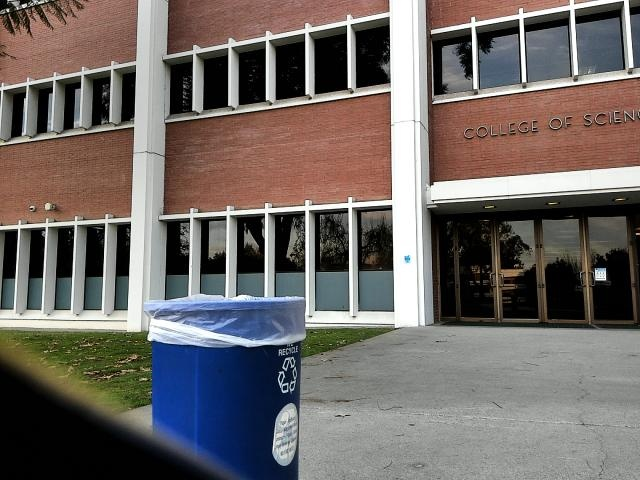trashcan_open: (141, 290, 311, 480)
